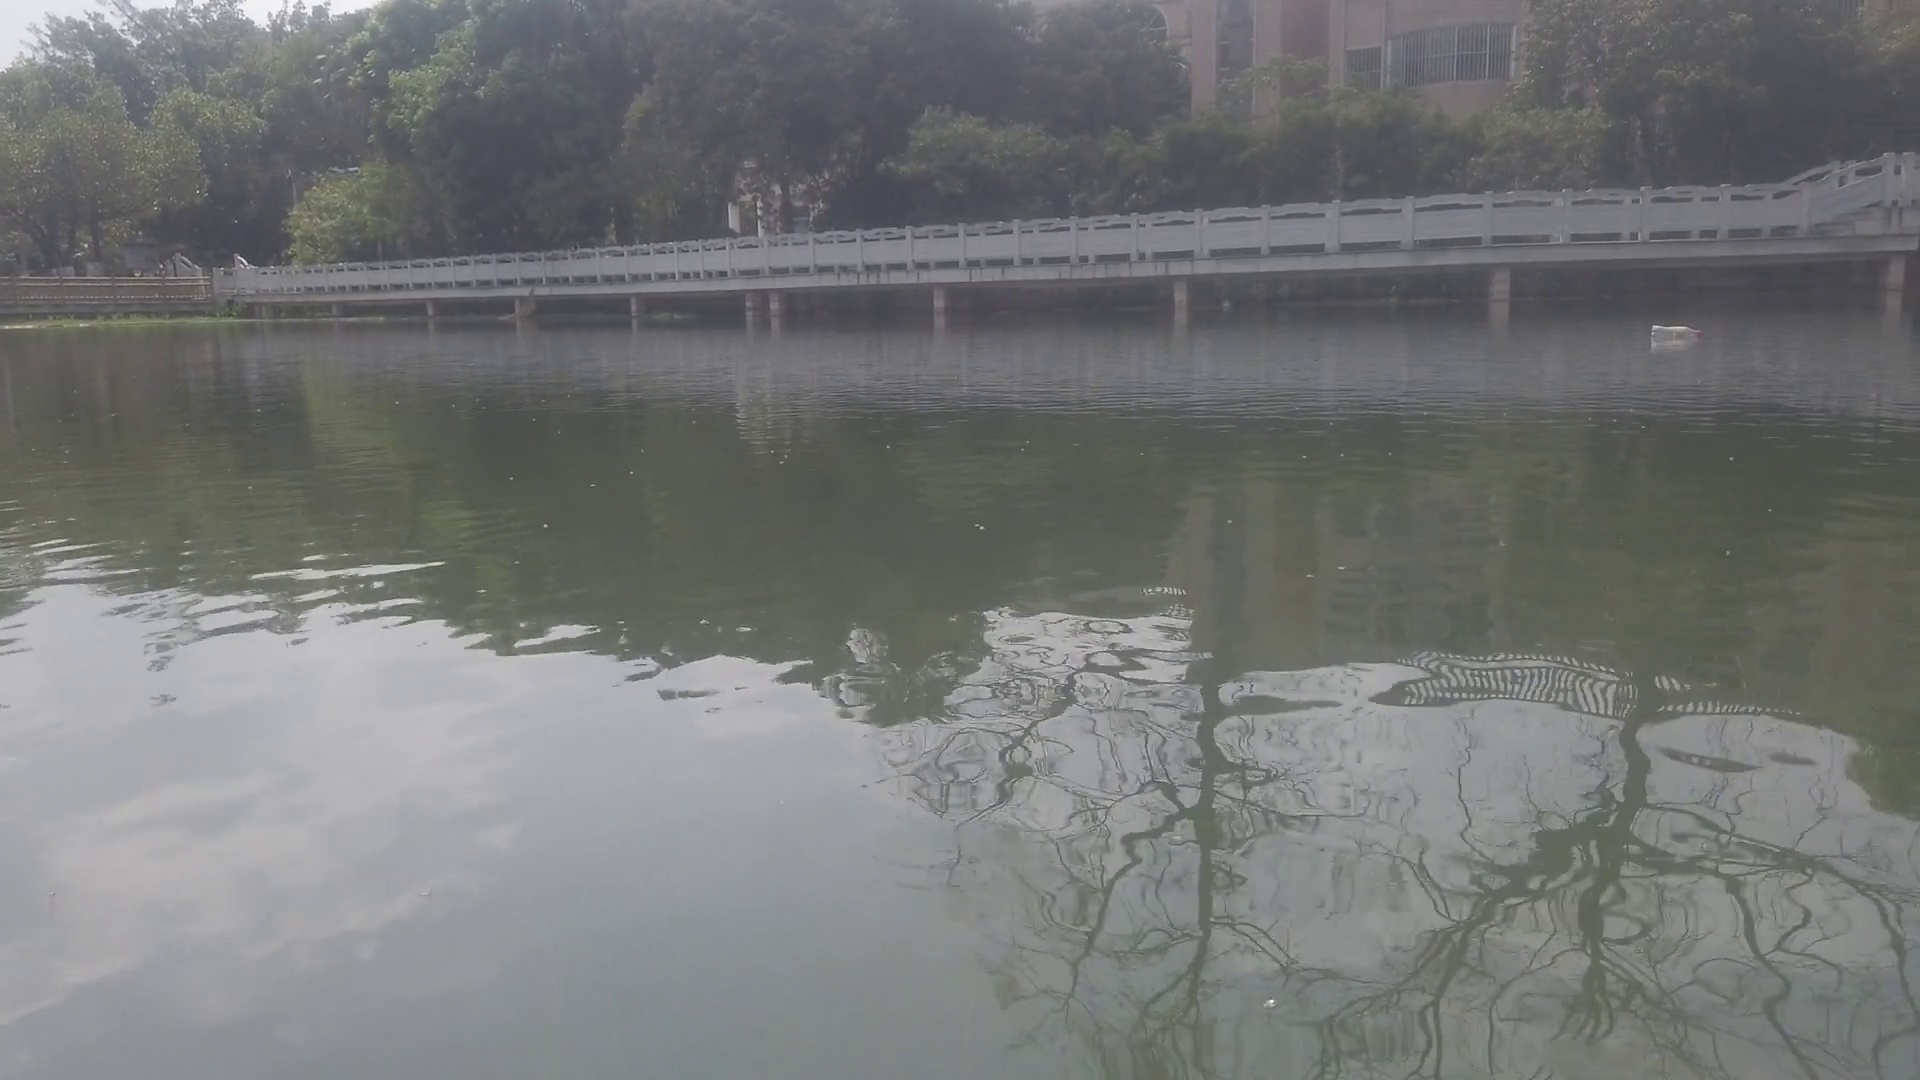bottle: (1647, 320, 1706, 338)
